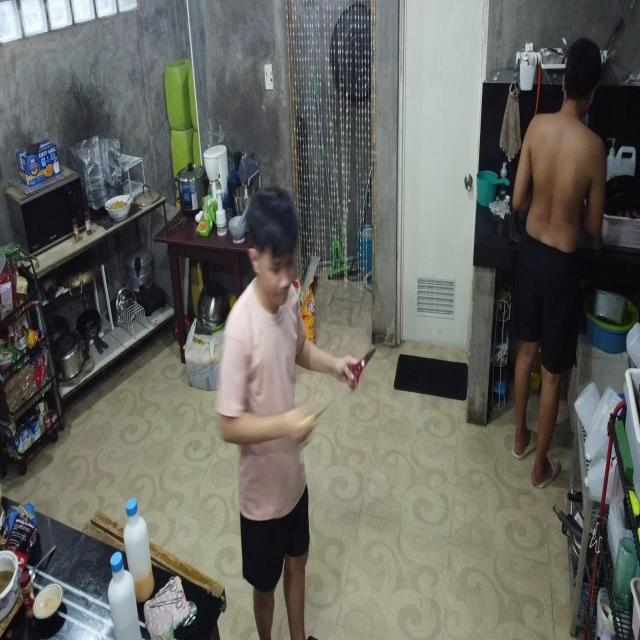scissor: (344, 345, 380, 389), (151, 589, 185, 610), (153, 576, 177, 600)
